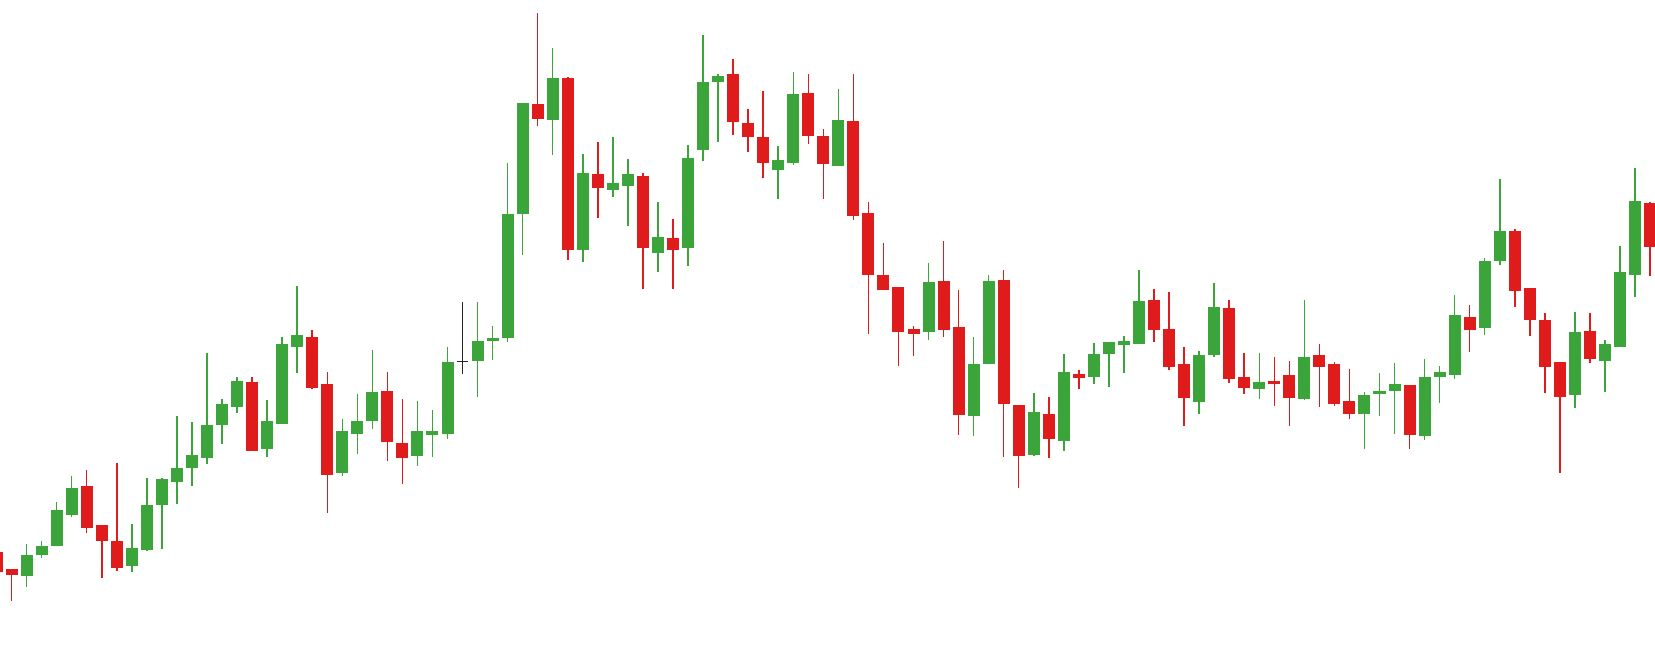buy: (1402, 330, 1566, 481), (243, 362, 350, 515)
sell: (543, 38, 741, 202)
